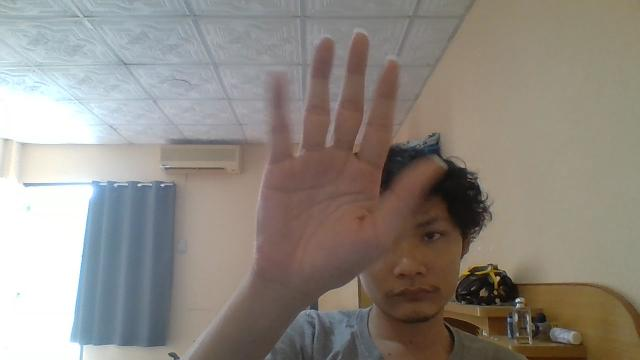Stop: (252, 30, 402, 300)
